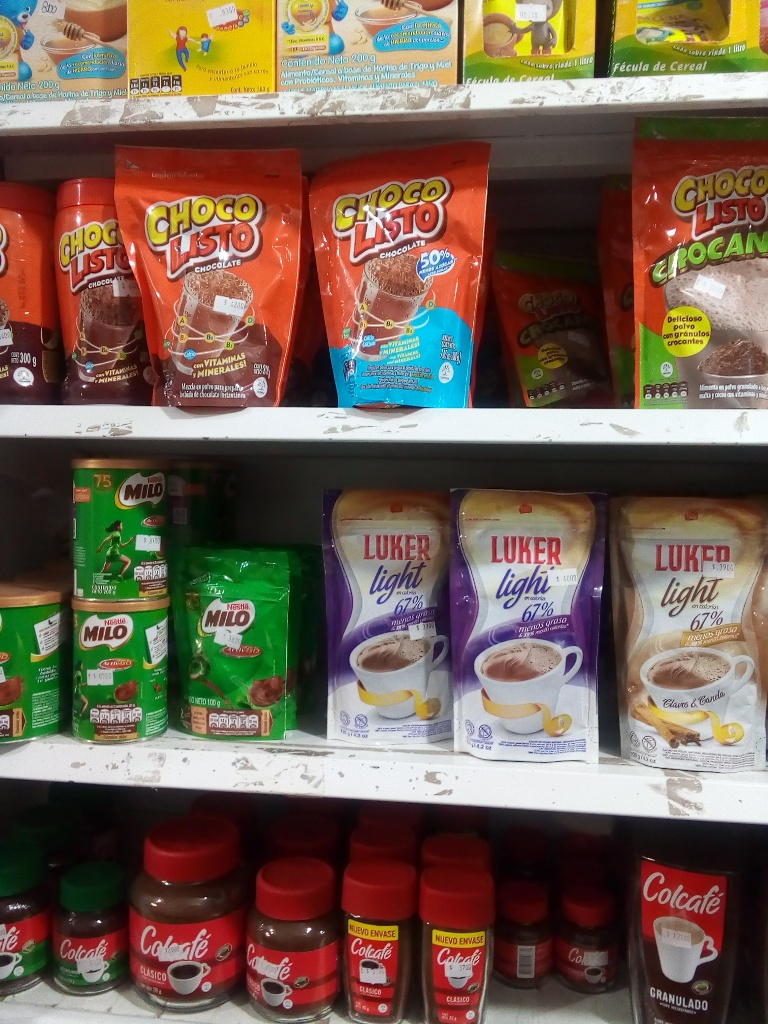COL0170104DYP20000: (309, 145, 487, 411)
COL0170203DYP10000: (175, 549, 292, 748)
COL0170203LAT20000: (63, 450, 175, 601)
